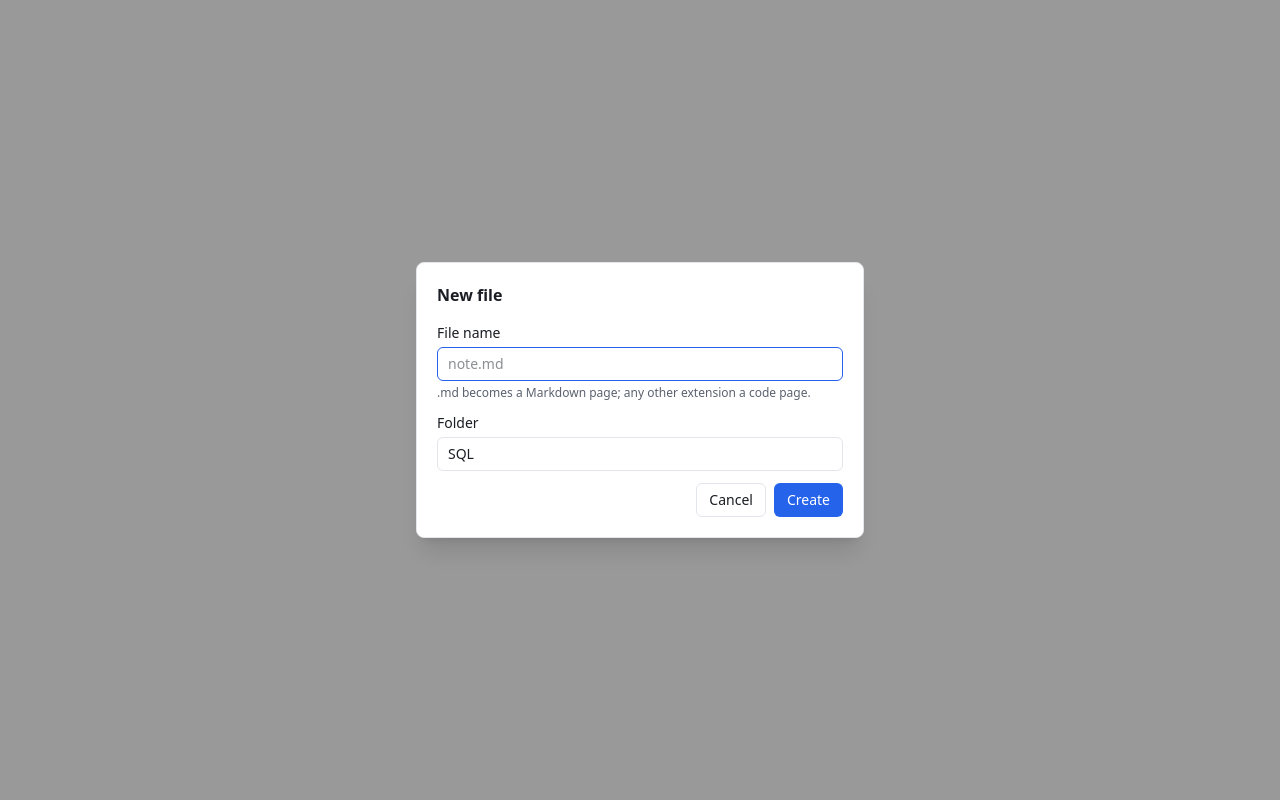
Test: NewFileDialog › clears the error when the input changes
The image size is (1280, 800).
Type "count.sql" into the field labelled "File name" at (640, 364), box [437,347,843,381]
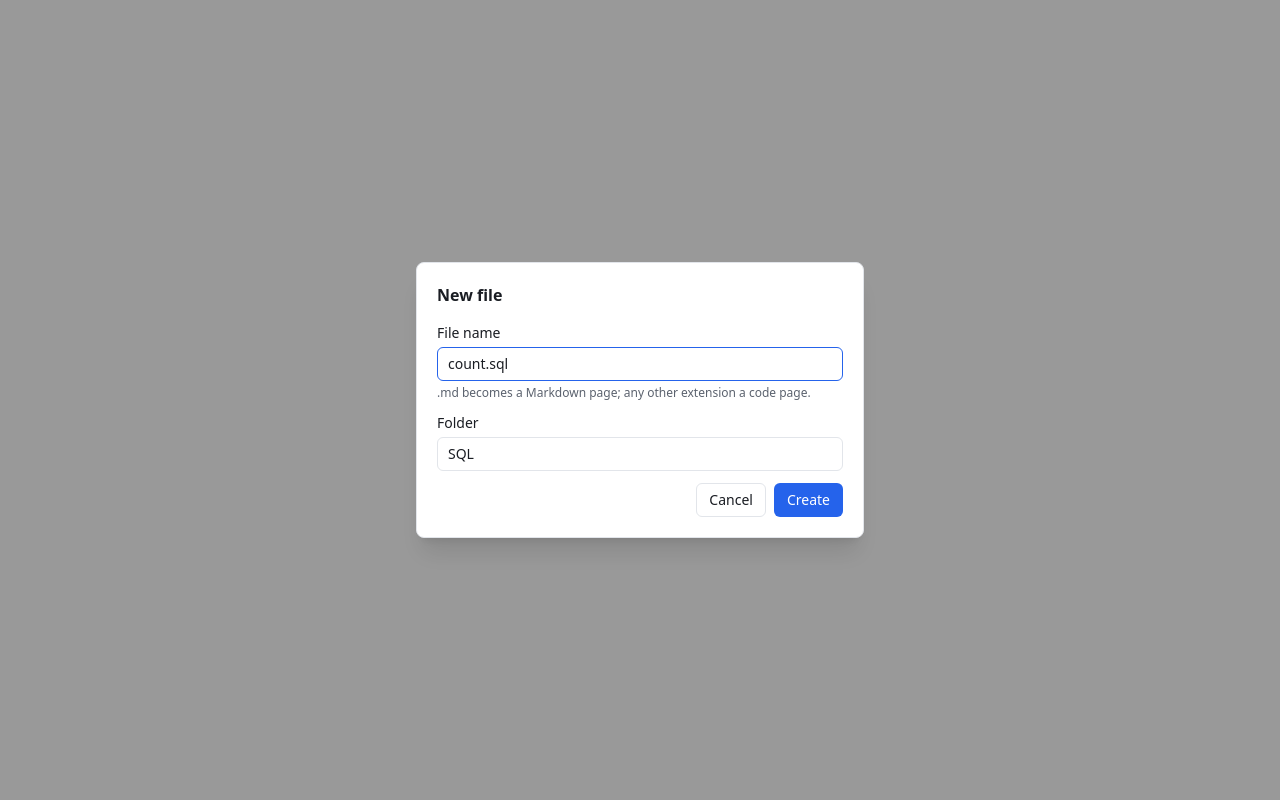
Click the button "Create" at (808, 500), box [774,483,843,517]
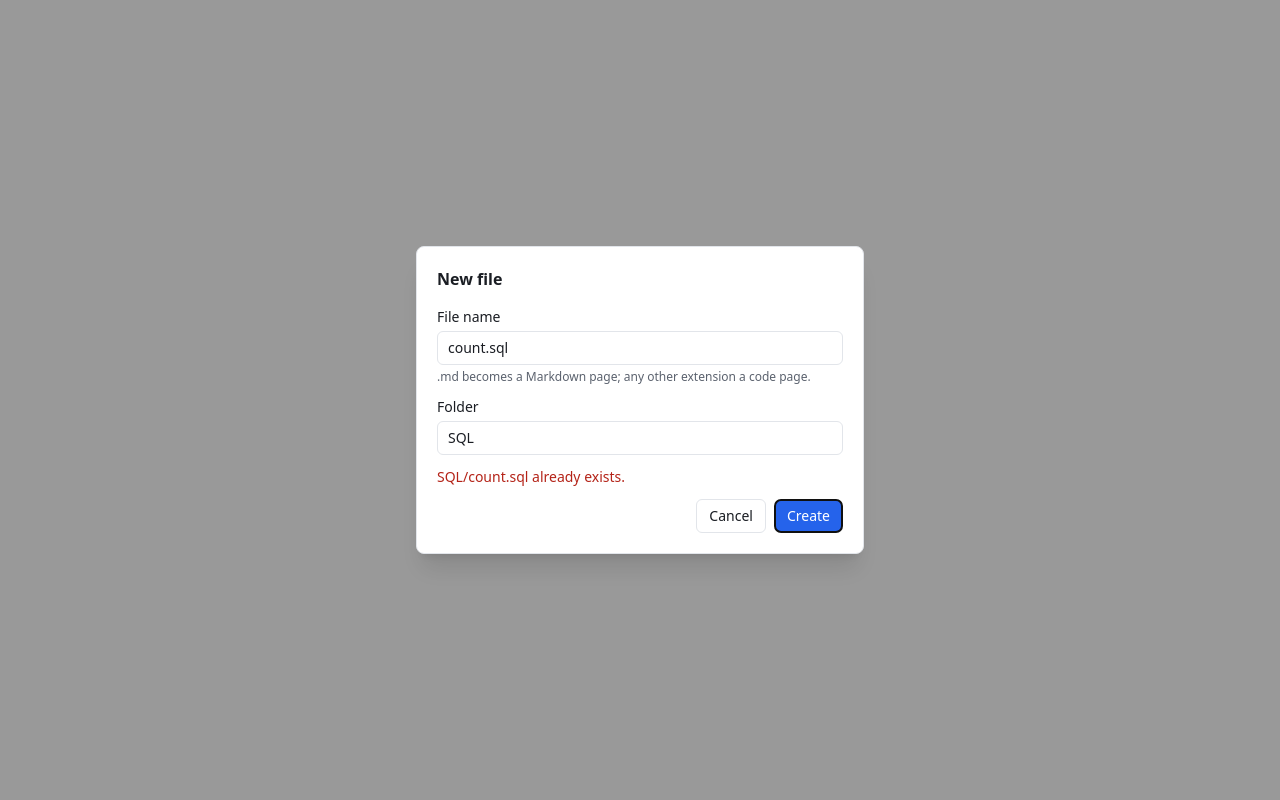
expect the message "SQL/count.sql already exists." is shown: met, box [437,467,625,486]
Type "x" into the field labelled "File name" at (640, 348), box [437,331,843,365]
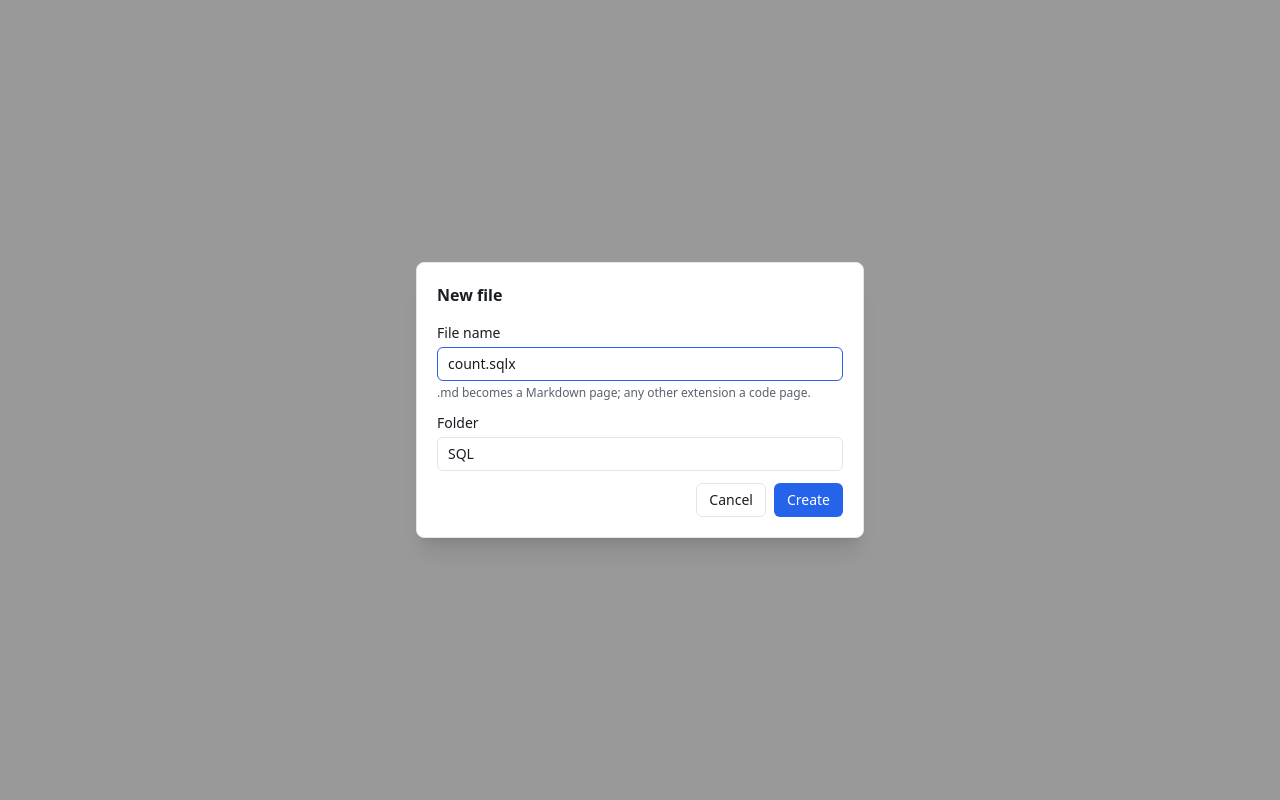
expect the message "SQL/count.sql already exists." is gone: met
